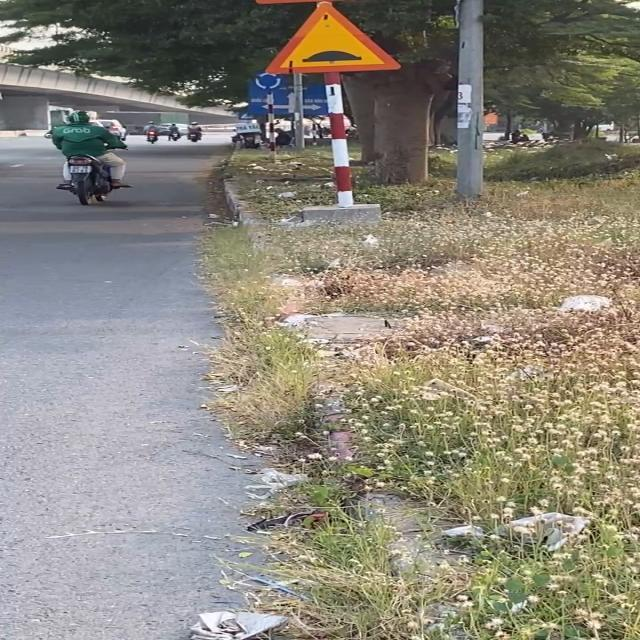221-duong-go-ghe: (261, 0, 404, 76)
303-noi-giao-nhau-chay-theo-vong-xuyen: (252, 71, 284, 91)
